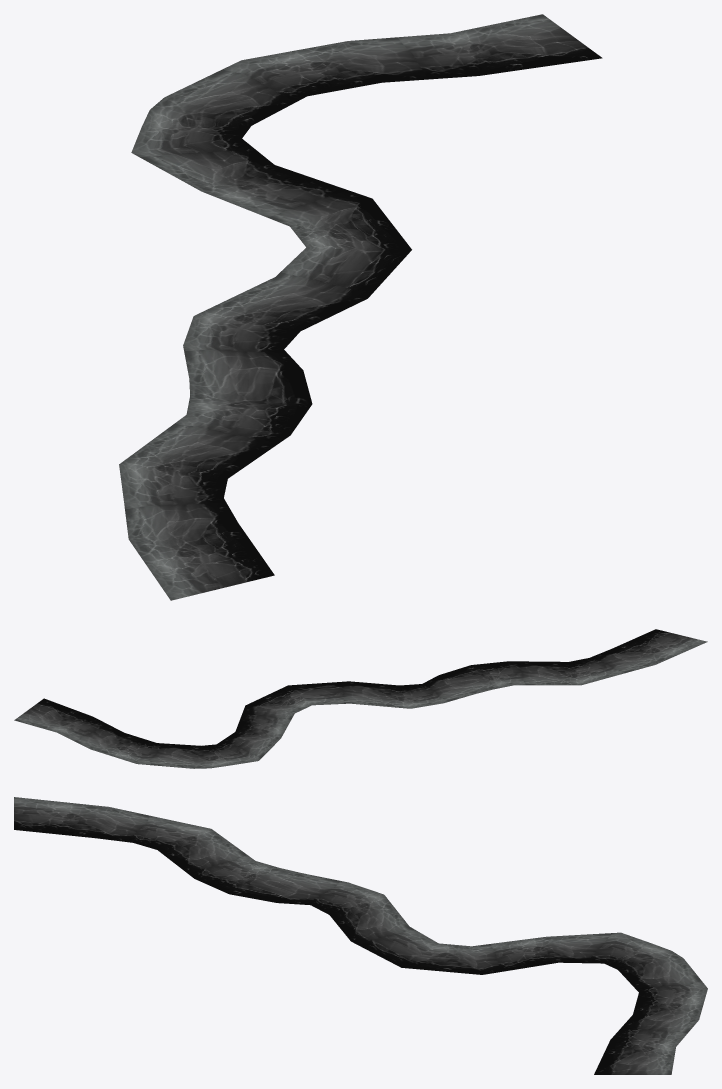
The model's file is wavewallconcave.fbx.
3 views of the same model, one above another, from view 1: azimuth 30°, elevation 25°; view 2: azimuth 150°, elevation 25°; view 3: azimuth 270°, elevation 25° (orthographic). The views are drawn at different scales.
Parts seen in each view (by area): view 1: obj0.066; view 2: obj0.066; view 3: obj0.066.
Part boxes in pixels (x1,y1,x2,y2): obj0.066: (119,14,602,600); obj0.066: (14,629,707,768); obj0.066: (14,797,707,1074).
Bounding box in the file's own units: 16.83 × 0.00174 × 17.76.
